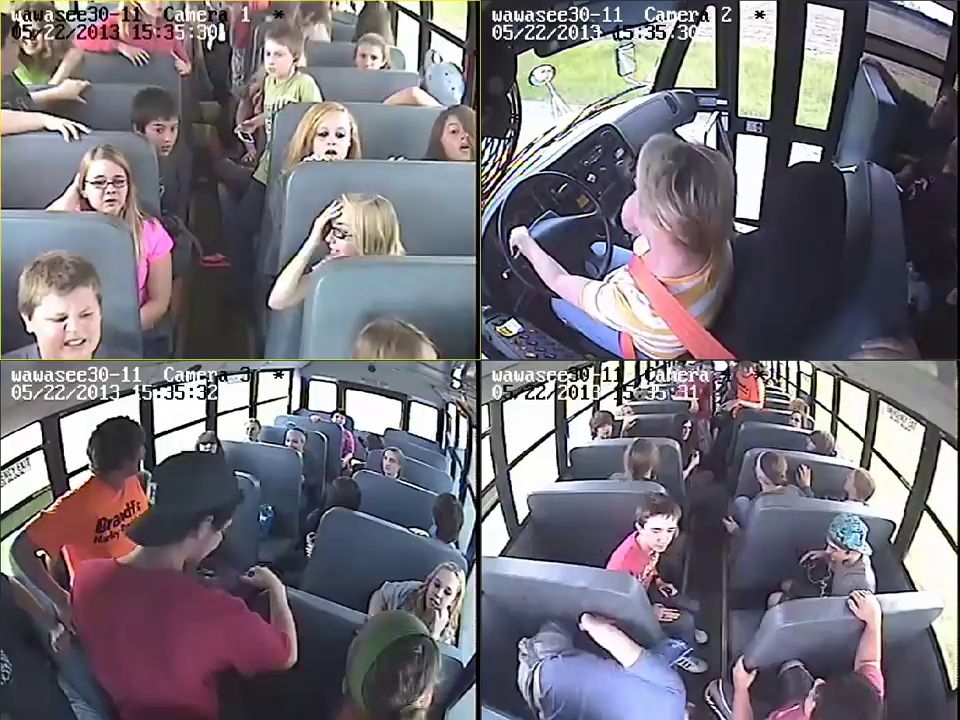face: (34, 293, 106, 359), (86, 164, 131, 217), (326, 209, 358, 257), (315, 115, 347, 160), (144, 117, 176, 153), (648, 514, 676, 555), (438, 121, 470, 155), (428, 574, 457, 610), (357, 42, 382, 70), (263, 45, 285, 73), (678, 419, 695, 439), (244, 421, 260, 441), (198, 438, 219, 453), (381, 454, 399, 471), (595, 423, 612, 437), (789, 414, 803, 424)
